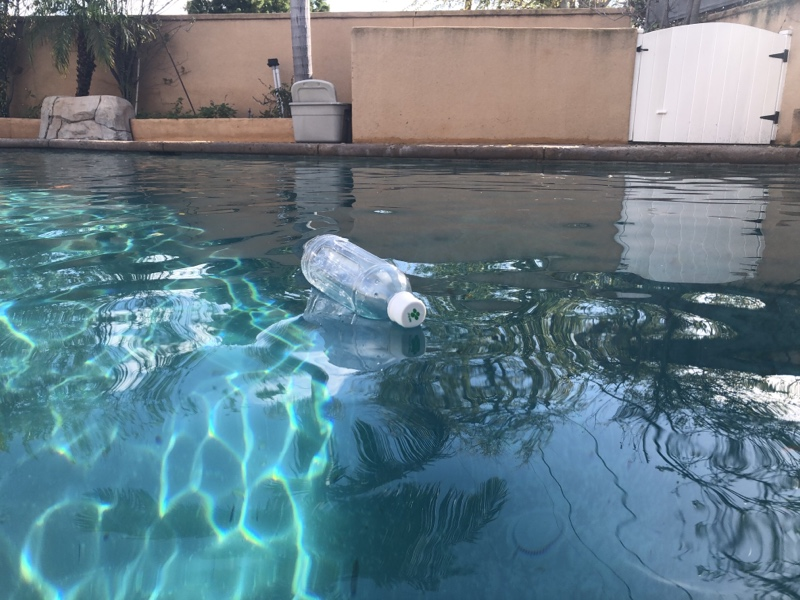Plastic Bottle: (298, 233, 427, 334)
